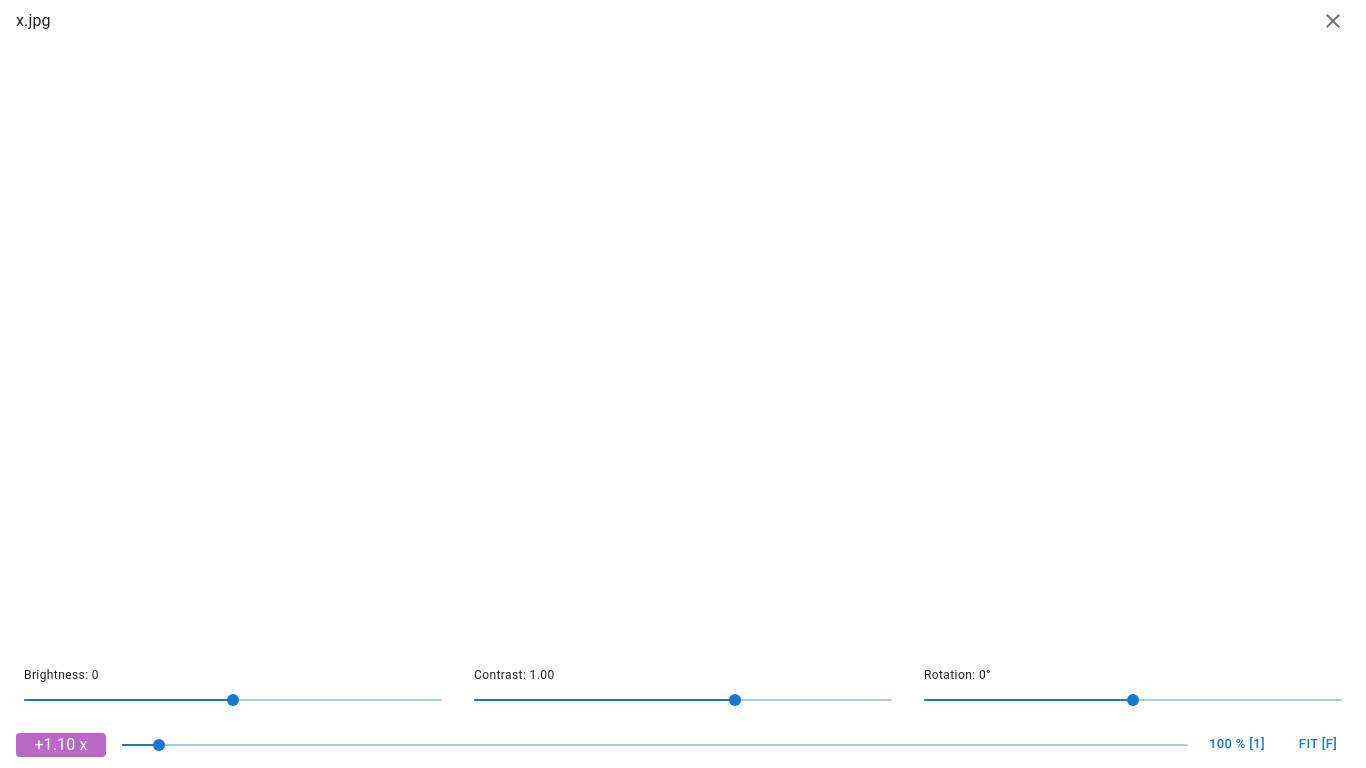
Test: ZoomViewer (cutter checklist 43-45) › double-click on the label returns to 1
Double-click the text with test id "zoom-label" at (61, 745), box x1=16 y1=733 x2=106 y2=757
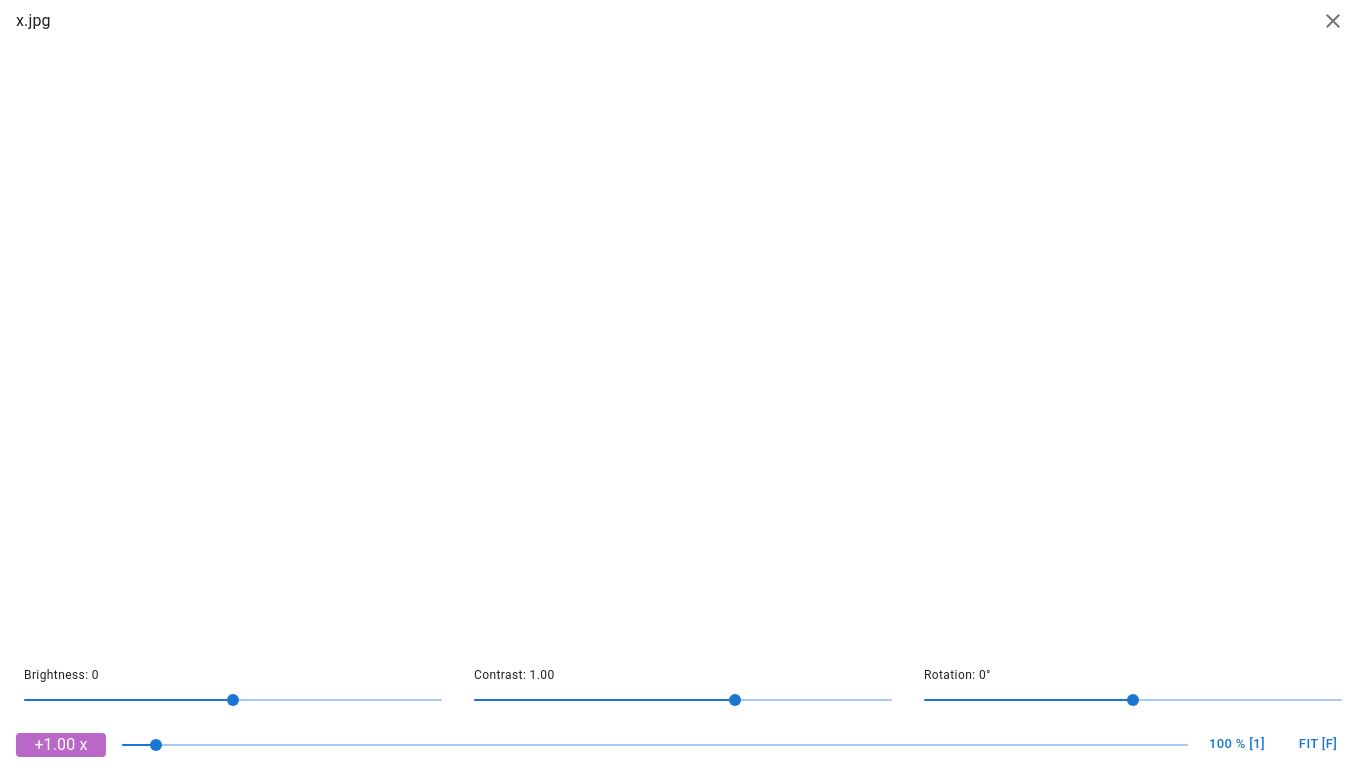
Result: the text with test id "zoom-label" reads "+1.00 x" at x1=34 y1=735 x2=88 y2=754
